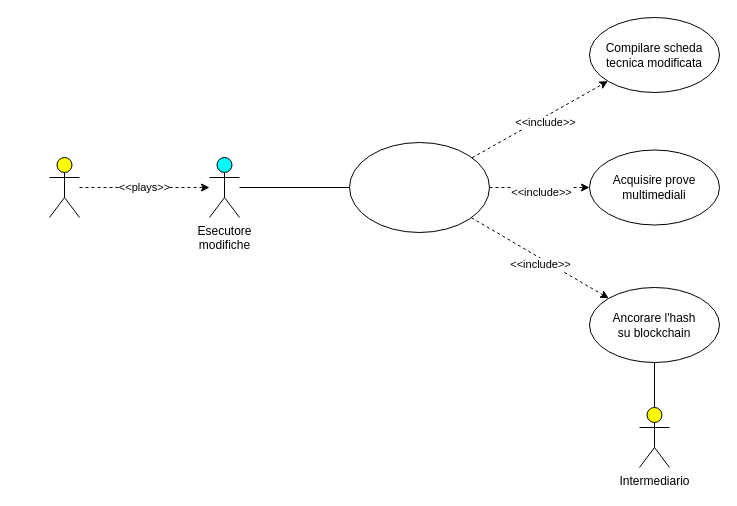
The diagram is 737 pixels wide and 506 high, and some of its shapes have lost their labels. The shapes that lost their labels are listed below. From the top down, each one's box as (x1, y1, x2, y2) in pixels, then its label:
(48, 156, 80, 218): Azienda di Tuning
(348, 142, 490, 232): Registrare le modifiche eseguite sul DMVP
